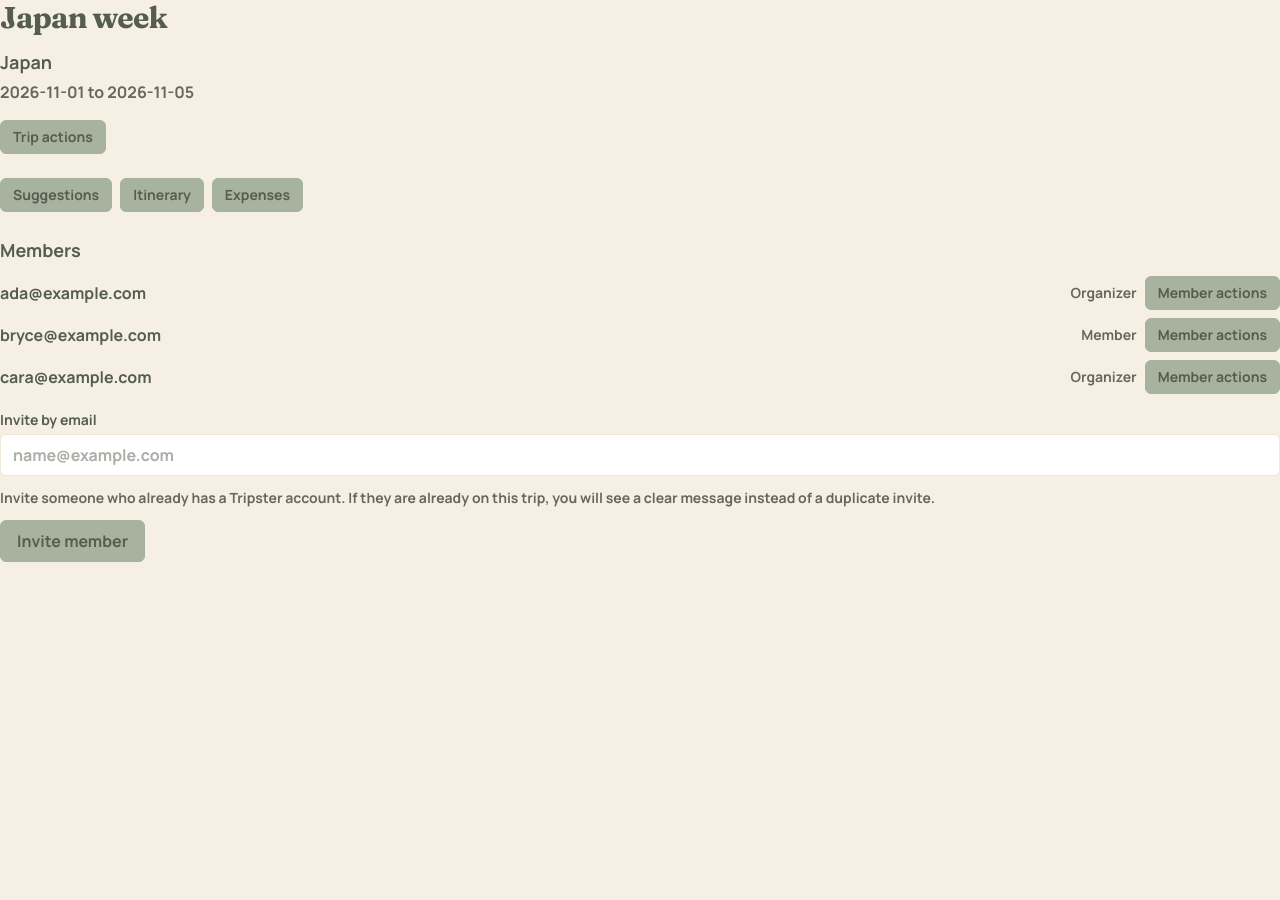
Test: TripDetail › puts promote, demote, and remove behind each member actions menu
Click the button with aria-label "Actions for bryce@example.com": (1212, 335) [1145,318,1279,352]
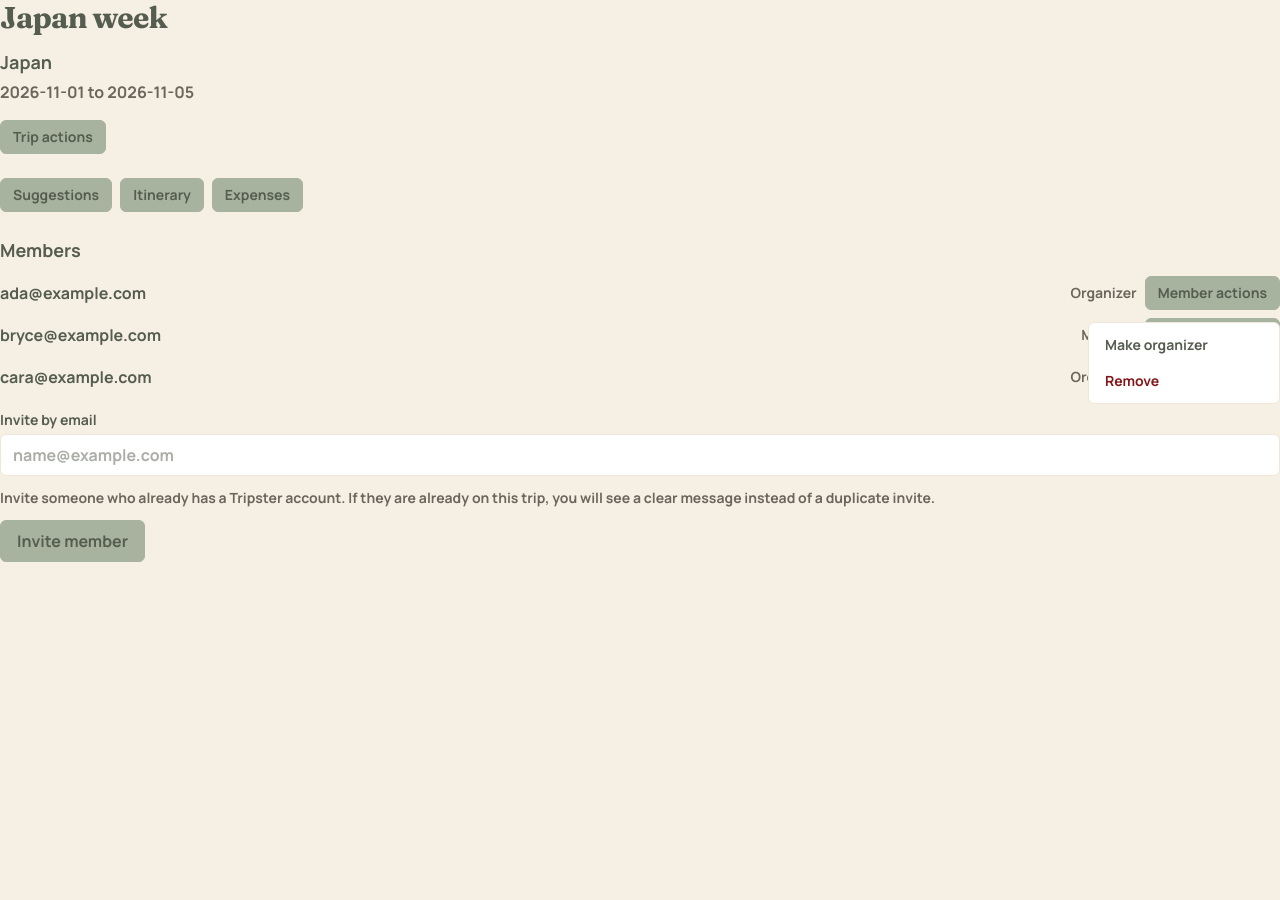
Now the menu item "Make organizer" is shown
Now the menu item "Remove" is shown, box [1093,363,1275,399]
Click the menu item "Make organizer": (1184, 345) [1093,327,1275,363]
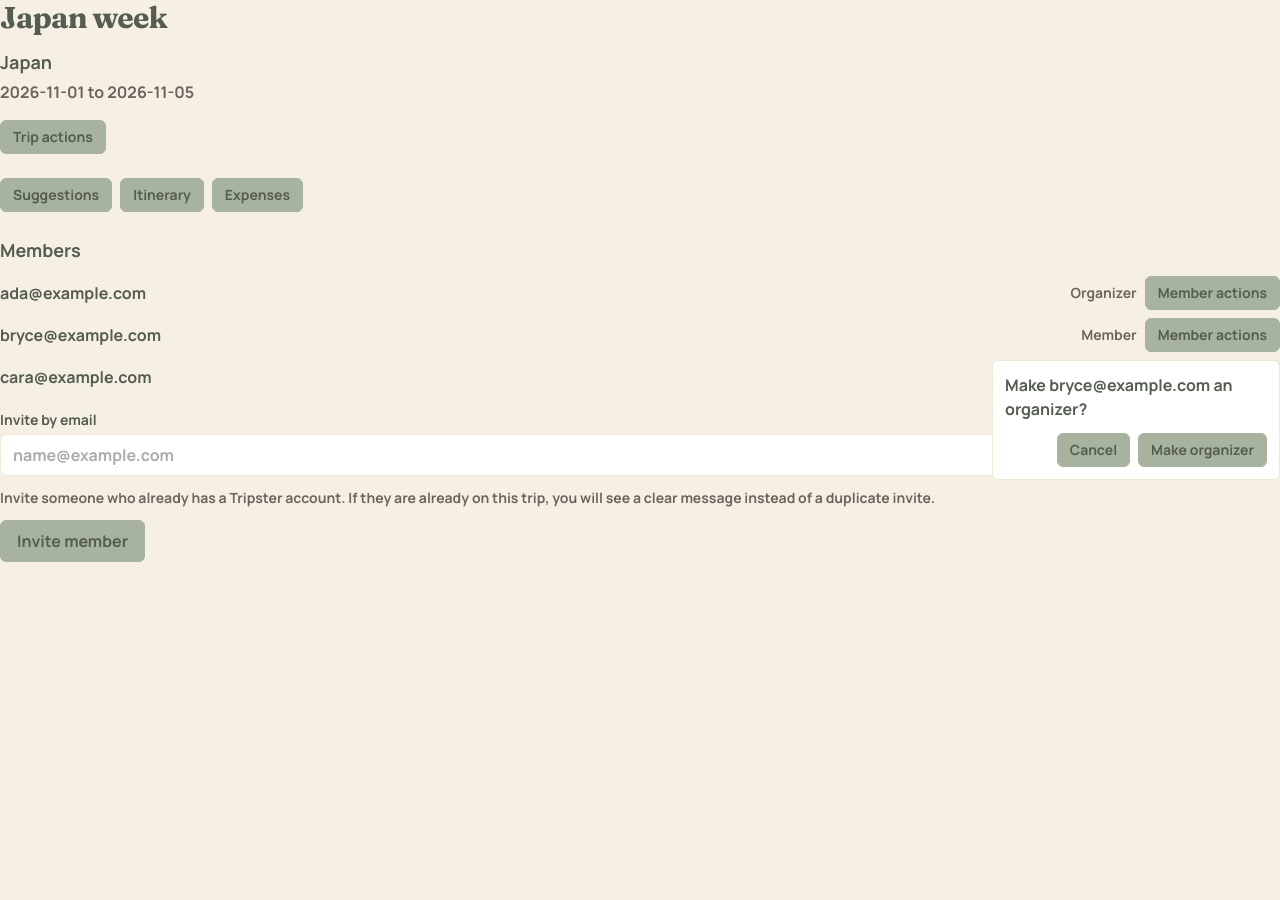
Now the button "Make organizer" is shown, box [1138,433,1267,467]
Now the dialog "Make bryce@example.com an organizer?" is shown, box [992,360,1279,480]
Now the button "Cancel" is shown, box [1057,433,1130,467]
Click the button with aria-label "Actions for ada@example.com": (1212, 293) [1145,276,1279,310]
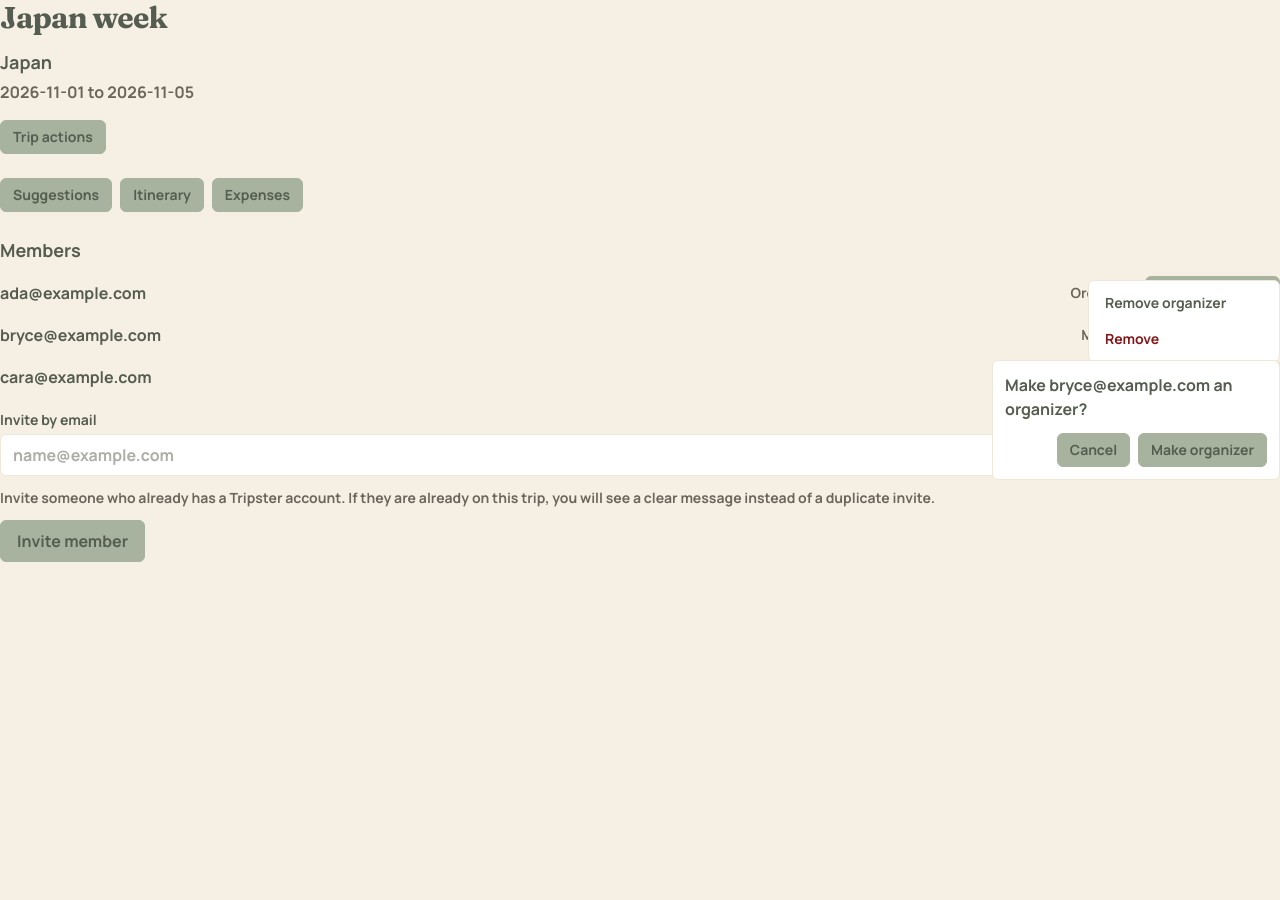
Now the menu item "Remove organizer" is shown, box [1093,285,1275,321]
Now the menu item "Remove" is shown, box [1093,321,1275,357]
